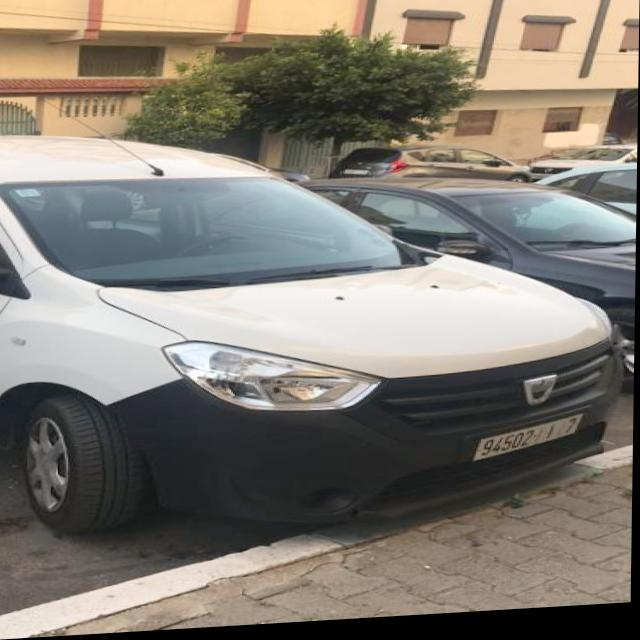License-Plate: (475, 422, 584, 467)
